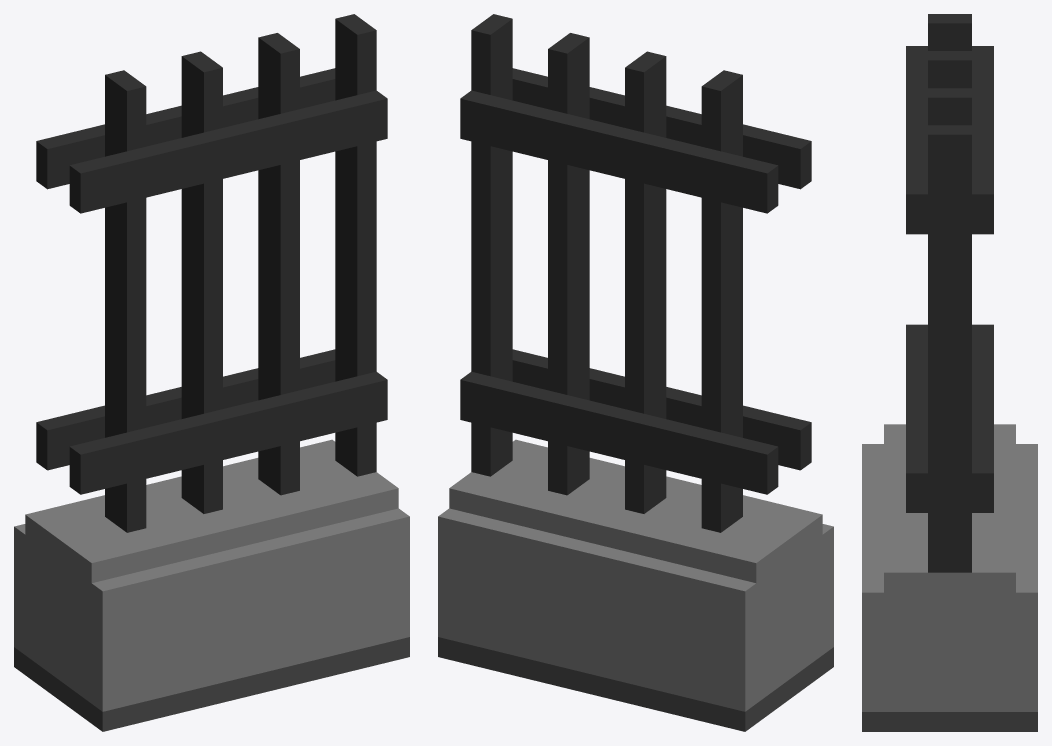
File: Park_Fence_Edge.glb
The picture shows the model from 3 angles, left to right: view 1: azimuth 30°, elevation 25°; view 2: azimuth 150°, elevation 25°; view 3: azimuth 270°, elevation 25°; orthographic projection.
Parts seen in each view (by area): view 1: Park_Fence_Edge; view 2: Park_Fence_Edge; view 3: Park_Fence_Edge.
Part boxes in pixels (x1,y1,x2,y2): Park_Fence_Edge: (14,14,409,731); Park_Fence_Edge: (438,14,833,731); Park_Fence_Edge: (862,14,1037,731).
Size of the model in its own units: 1.6 by 3 by 0.8.
Materials: 1 (1 with a texture image).
